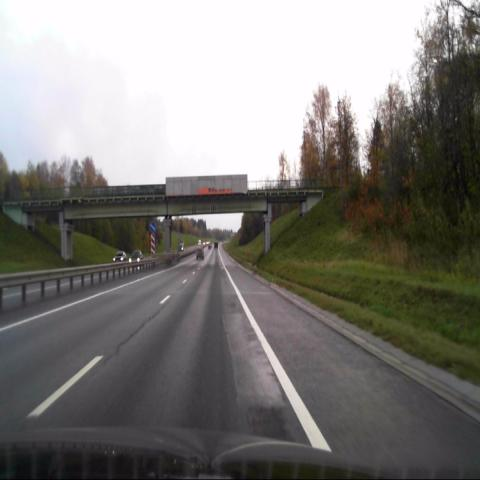4_2_1: (149, 222, 156, 234)
